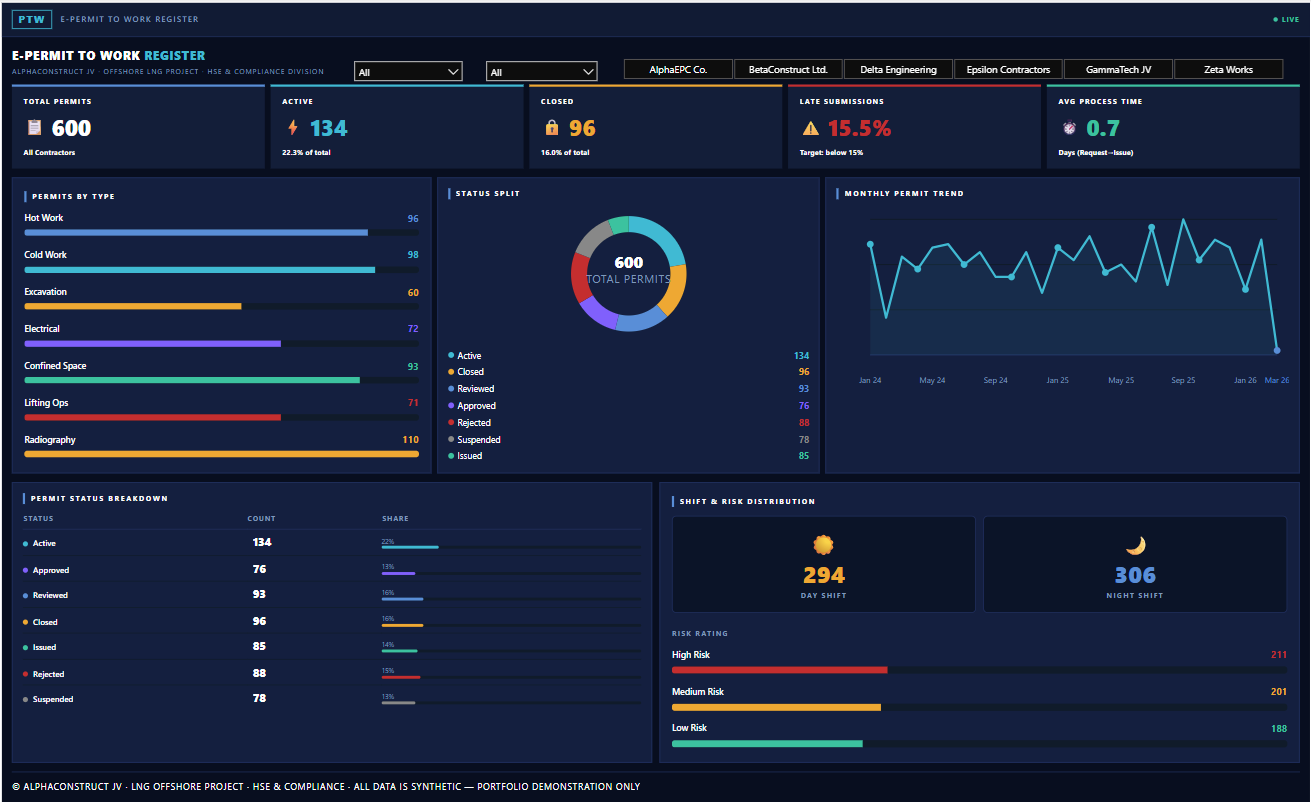

Layout of this report page (visuals, bound fields, positions):
{"tool":"powerbi","page":{"name":"E-permit work register","canvas":[1800,1100],"ordinal":0},"visuals":[{"type":"htmlContent443BE3AD55E043BF878BED274D3A6855","fields":{"content":["_Measures.PTW_HTML"]},"box":[0,0,1800,1200],"z":0},{"type":"slicer","fields":{"Values":["Dim_Date.Year"]},"box":[477.2,74.8,168,39.5],"z":1000},{"type":"slicer","fields":{"Values":["Dim_PermitType.Permit Type"]},"box":[657.9,74.8,172.2,39.5],"z":2000},{"type":"slicer","fields":{"Values":["Dim_Company.Company"]},"box":[830.1,74.8,951.5,39.5],"z":3000}]}

Visuals, with their boxes in screenshot pixels (x1, y1, x2, y2), scaled from the page's 1800x1100 canvas onto the 1311x802 screenshot:
htmlContent443BE3AD55E043BF878BED274D3A6855 - _Measures.PTW_HTML: {"x1": 0, "y1": 0, "x2": 1310, "y2": 801}
slicer - Dim_Date.Year: {"x1": 348, "y1": 55, "x2": 470, "y2": 83}
slicer - Dim_PermitType.Permit Type: {"x1": 479, "y1": 55, "x2": 605, "y2": 83}
slicer - Dim_Company.Company: {"x1": 605, "y1": 55, "x2": 1298, "y2": 83}
